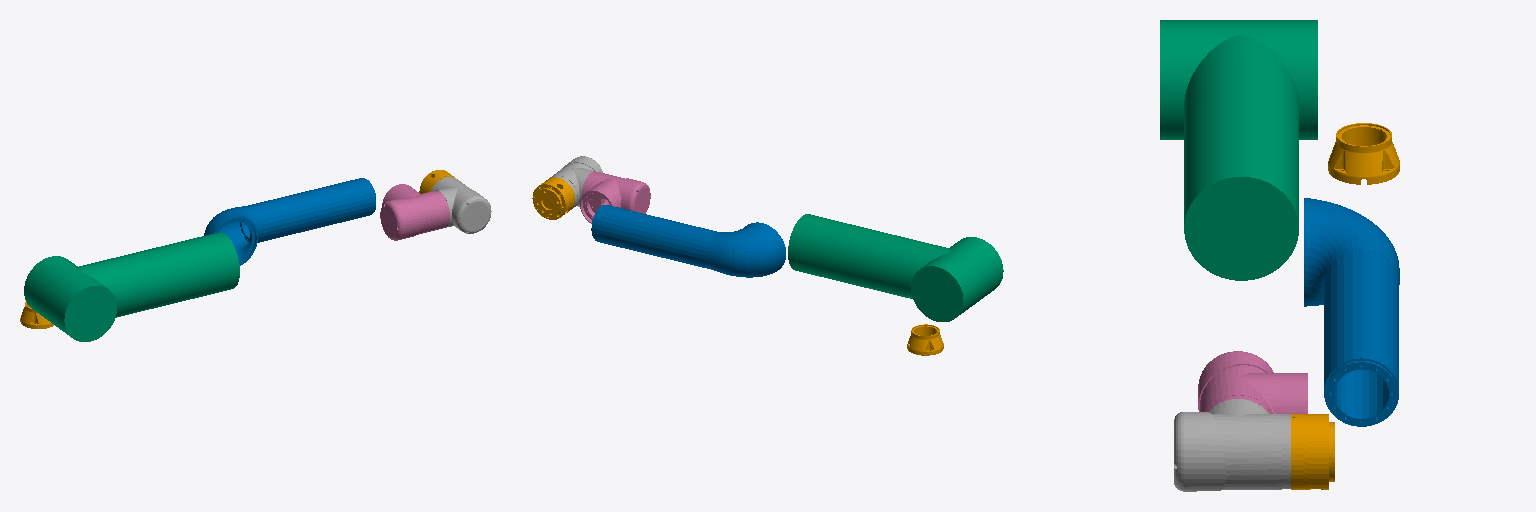
robot.urdf — testbot:
<?xml version="1.0" ?>

<robot name="testbot">
    <link name="base">
        <visual>
            <geometry>
                <mesh filename="package://testbot_description/meshes/visual/link0.stl" />
            </geometry>
        </visual>
        <collision>
            <geometry>
                <mesh filename="package://testbot_description/meshes/collision/link0.stl" />
            </geometry>
        </collision>
    </link>
    <link name="link1">
        <visual>
            <geometry>
                <mesh filename="package://testbot_description/meshes/visual/link1.stl" />
            </geometry>
        </visual>
        <collision>
            <geometry>
                <mesh filename="package://testbot_description/meshes/collision/link1.stl" />
            </geometry>
        </collision>
    </link>
    <joint name="joint1" type="revolute">
        <origin rpy="1.57079632679 0 0" xyz="0 0 0.08" />
        <parent link="base" />
        <child link="link1" />
        <axis xyz="0 1 0" />
        <limit effort="87" lower="-2.9671" upper="2.9671" velocity="2.3925" />
    </joint>
    <link name="link2">
        <visual>
            <geometry>
                <mesh filename="package://testbot_description/meshes/visual/link2.stl" />
            </geometry>
        </visual>
        <collision>
            <geometry>
                <mesh filename="package://testbot_description/meshes/collision/link2.stl" />
            </geometry>
        </collision>
    </link>
    <joint name="joint2" type="revolute">
        <origin rpy="1.57079632679 0 1.57079632679" xyz="0 0.125 0.13" />
        <parent link="link1" />
        <child link="link2" />
        <axis xyz="0 1 0" />
        <limit effort="87" lower="0" upper="2.9671" velocity="2.3925" />
    </joint>
    <link name="link3">
        <visual>
            <geometry>
                <mesh filename="package://testbot_description/meshes/visual/link3.stl" />
            </geometry>
        </visual>
        <collision>
            <geometry>
                <mesh filename="package://testbot_description/meshes/collision/link3.stl" />
            </geometry>
        </collision>
    </link>
    <joint name="fixed1" type="fixed">
        <origin rpy="0 3.14159265359 0" xyz="0 0 0.845" />
        <parent link="link2" />
        <child link="link3" />
    </joint>
    <link name="link4">
        <visual>
            <geometry>
                <mesh filename="package://testbot_description/meshes/visual/link4.stl" />
            </geometry>
        </visual>
        <collision>
            <geometry>
                <mesh filename="package://testbot_description/meshes/collision/link4.stl" />
            </geometry>
        </collision>
    </link>
    <joint name="joint3" type="revolute">
        <origin rpy="0 0 3.14159265359" xyz="0 -0.125 0" />
        <parent link="link3" />
        <child link="link4" />
        <axis xyz="0 1 0" />
        <limit effort="87" lower="-1.8326" upper="1.8326" velocity="2.3925" />
    </joint>
    <link name="link5">
        <visual>
            <geometry>
                <mesh filename="package://testbot_description/meshes/visual/link5.stl" />
            </geometry>
        </visual>
        <collision>
            <geometry>
                <mesh filename="package://testbot_description/meshes/collision/link5.stl" />
            </geometry>
        </collision>
    </link>
    <joint name="fixed2" type="fixed">
        <origin rpy="-1.57079632679 0 0" xyz="0 0 -0.78" />
        <parent link="link4" />
        <child link="link5" />
    </joint>
    <link name="link6">
        <visual>
            <geometry>
                <mesh filename="package://testbot_description/meshes/visual/link6.stl" />
            </geometry>
        </visual>
        <collision>
            <geometry>
                <mesh filename="package://testbot_description/meshes/collision/link6.stl" />
            </geometry>
        </collision>
    </link>
    <joint name="joint4" type="revolute">
        <origin rpy="1.57079632679 3.14159265359 0" xyz="0 0 -0.257" />
        <parent link="link5" />
        <child link="link6" />
        <axis xyz="0 1 0" />
        <limit effort="12" lower="-1.8326" upper="1.8326" velocity="2.3925" />
    </joint>
    <link name="link7">
        <visual>
            <geometry>
                <mesh filename="package://testbot_description/meshes/visual/link7.stl" />
            </geometry>
        </visual>
        <collision>
            <geometry>
                <mesh filename="package://testbot_description/meshes/collision/link7.stl" />
            </geometry>
        </collision>
    </link>
    <joint name="joint5" type="revolute">
        <origin rpy="-1.57079632679 0 0" xyz="0 0 -0.2" />
        <parent link="link6" />
        <child link="link7" />
        <axis xyz="0 1 0" />
        <limit effort="12" lower="-1.8326" upper="1.8326" velocity="2.3925" />
    </joint>
    <link name="link8">
        <visual>
            <geometry>
                <mesh filename="package://testbot_description/meshes/visual/link8.stl" />
            </geometry>
        </visual>
        <collision>
            <geometry>
                <mesh filename="package://testbot_description/meshes/collision/link8.stl" />
            </geometry>
        </collision>
    </link>
    <joint name="joint6" type="revolute">
        <origin rpy="0 0 0" xyz="0 0 -0.2005" />
        <parent link="link7" />
        <child link="link8" />
        <axis xyz="0 0 1" />
        <limit effort="12" lower="-1.8326" upper="1.8326" velocity="2.3925" />
    </joint>
</robot>

--- Facts derived from the render (not from the file) ---
Views: 3 orthographic renders of the robot side by side, from view 1: azimuth 30°, elevation 25°; view 2: azimuth 150°, elevation 25°; view 3: azimuth 270°, elevation 25°.
Model testbot with 9 links and 8 joints (6 revolute, 2 fixed), rooted at base, posed all joints at 0.
Visible links, largest first — view 1: link2, link4, link6, link7; view 2: link2, link4, link6, link8, link7, base; view 3: link2, link4, link7, link6, base, link8.
Boxes of the visible links, x1,y1,x2,y2 form: link2: (24,232,239,341); link4: (204,178,375,265); link6: (380,184,449,240); link7: (431,177,491,233); link2: (788,214,1003,321); link4: (591,205,785,277); link6: (580,171,650,223); link8: (532,177,574,219); link7: (550,156,602,209); base: (907,324,943,355); link2: (1160,20,1317,280); link4: (1304,198,1399,426); link7: (1174,399,1290,491); link6: (1198,351,1307,413); base: (1328,123,1399,184); link8: (1291,414,1334,489).
Size in the robot's own frame: 2.03 by 0.4984 by 0.3291 metres.
Meshes: 9 distinct files referenced, 6 mesh visuals loaded (6 binary STL); not drawn: 3 (reference not matched to a file when rendering).
